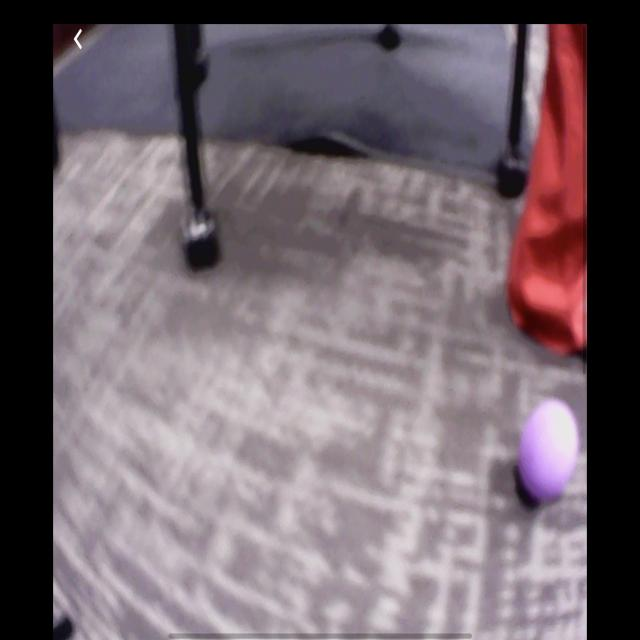ball: (520, 397, 581, 505)
